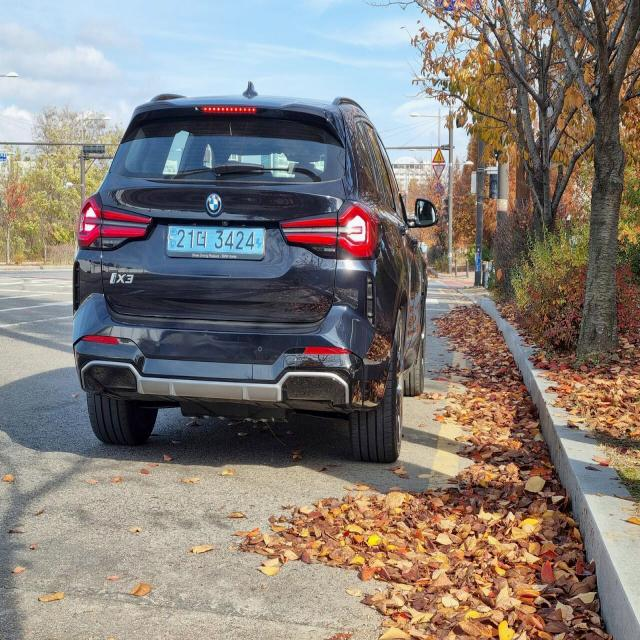EV_plate: (165, 218, 265, 266)
car: (63, 72, 446, 474)
